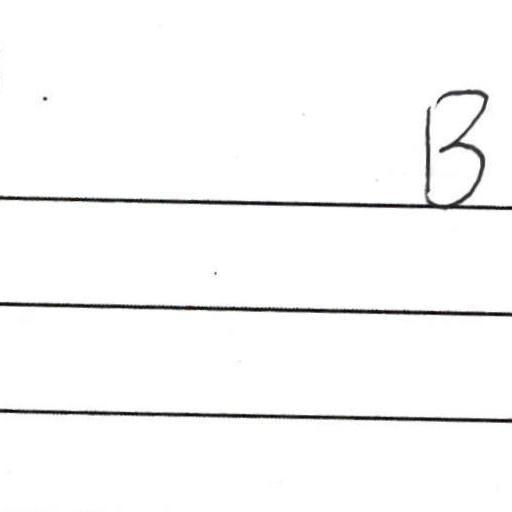ans: (413, 81, 491, 210)
